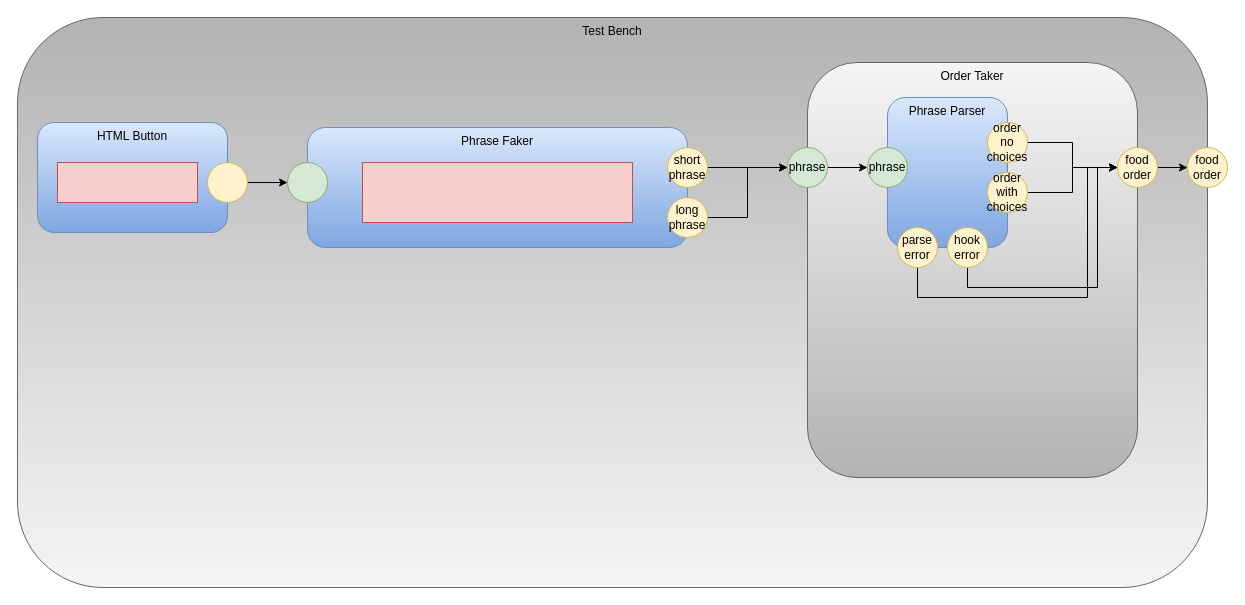
This 1245x605 diagram has some shape labels left out. The shapes that lost their labels are listed below. From the top down, each one's centre as x and y in pixels, then its label:
point (127, 182): me.send ("click", true);
point (227, 182): click
point (307, 182): go
point (497, 192): me.send ("long phrase", "I Want A Cheeburger With Mustard And Cheese");
